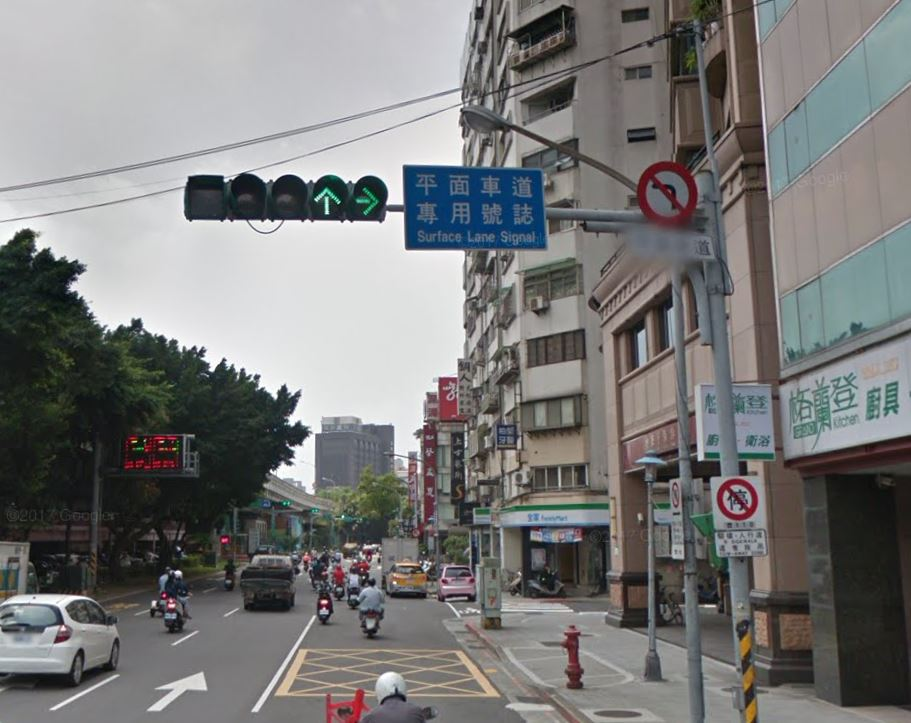No_left_turn: (637, 160, 697, 226)
Traffic_light_green: (229, 173, 389, 221)
